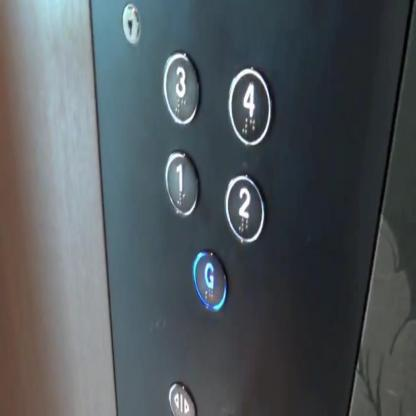1: (164, 148, 198, 216)
2: (224, 174, 264, 244)
3: (162, 50, 200, 126)
4: (226, 65, 271, 146)
G: (191, 249, 227, 314)
keyhole: (119, 2, 142, 46)
open: (168, 380, 197, 415)
